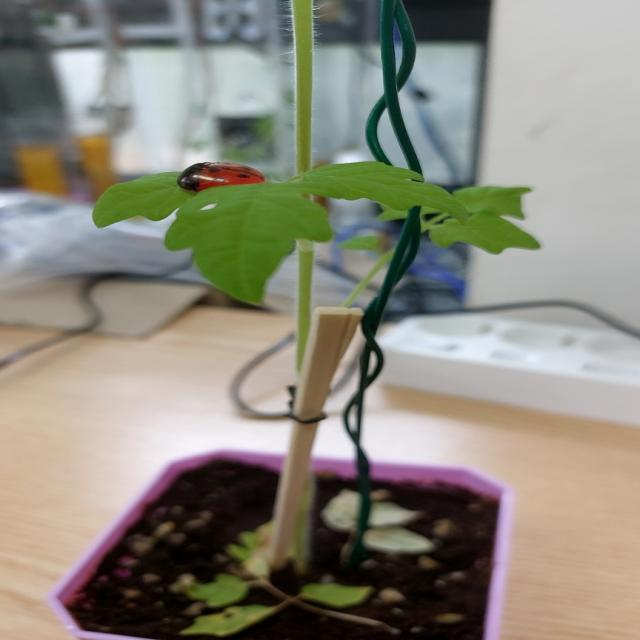bug: (166, 157, 282, 212)
